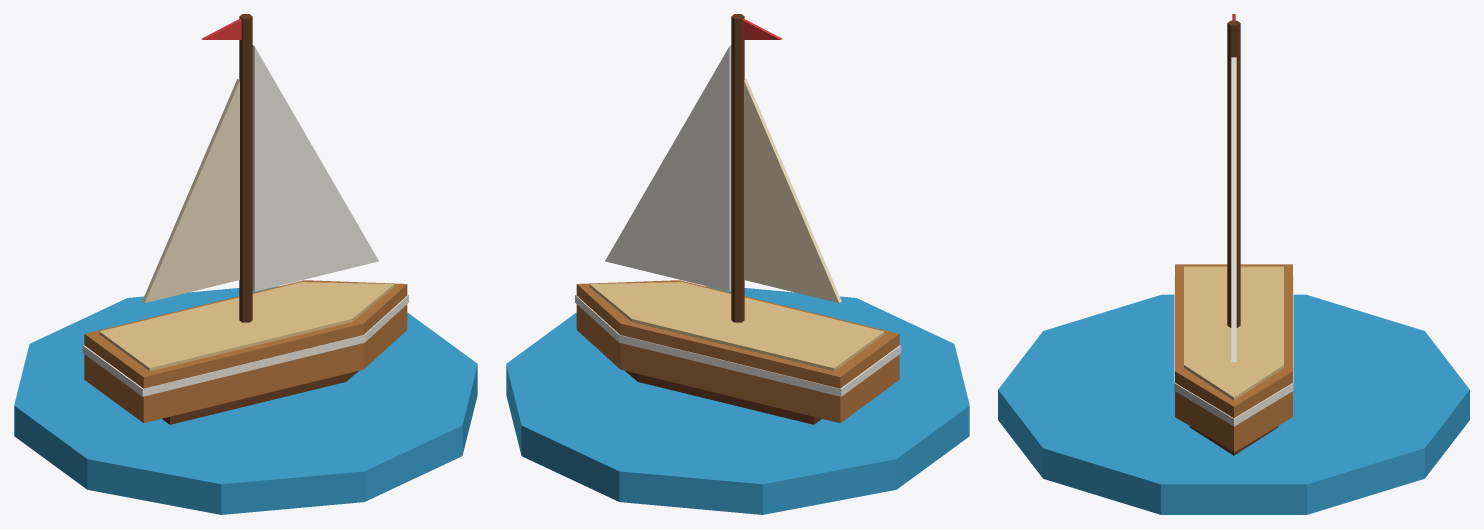
Rendered from Sailboat.fbx.
3 renders of one model, left to right at view 1: azimuth 30°, elevation 25°; view 2: azimuth 150°, elevation 25°; view 3: azimuth 270°, elevation 25°, orthographic.
Visible parts, largest first — view 1: Sailboat; view 2: Sailboat; view 3: Sailboat.
Boxes of the visible parts, x1,y1,x2,y2 form: Sailboat: (14, 14, 477, 514); Sailboat: (506, 14, 969, 514); Sailboat: (998, 14, 1469, 514).
Size of the model in its own units: 7.99 by 7.8 by 8.4.
Materials: 1 (1 with a texture image).
